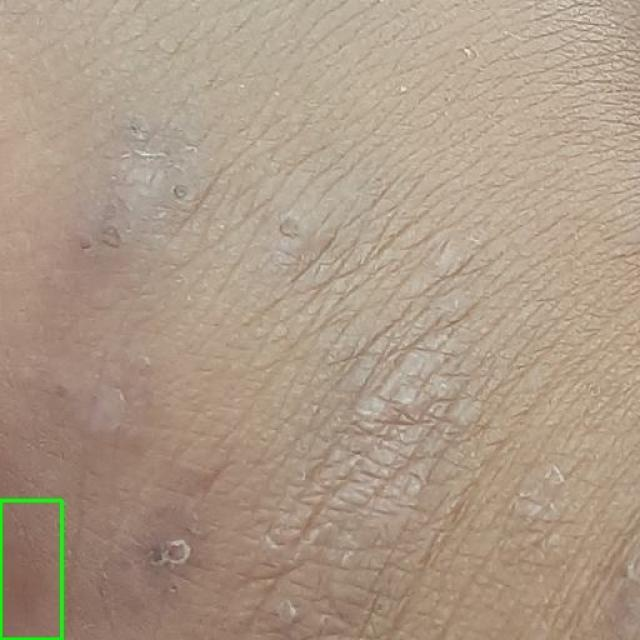Eczema: (0, 500, 61, 639)
